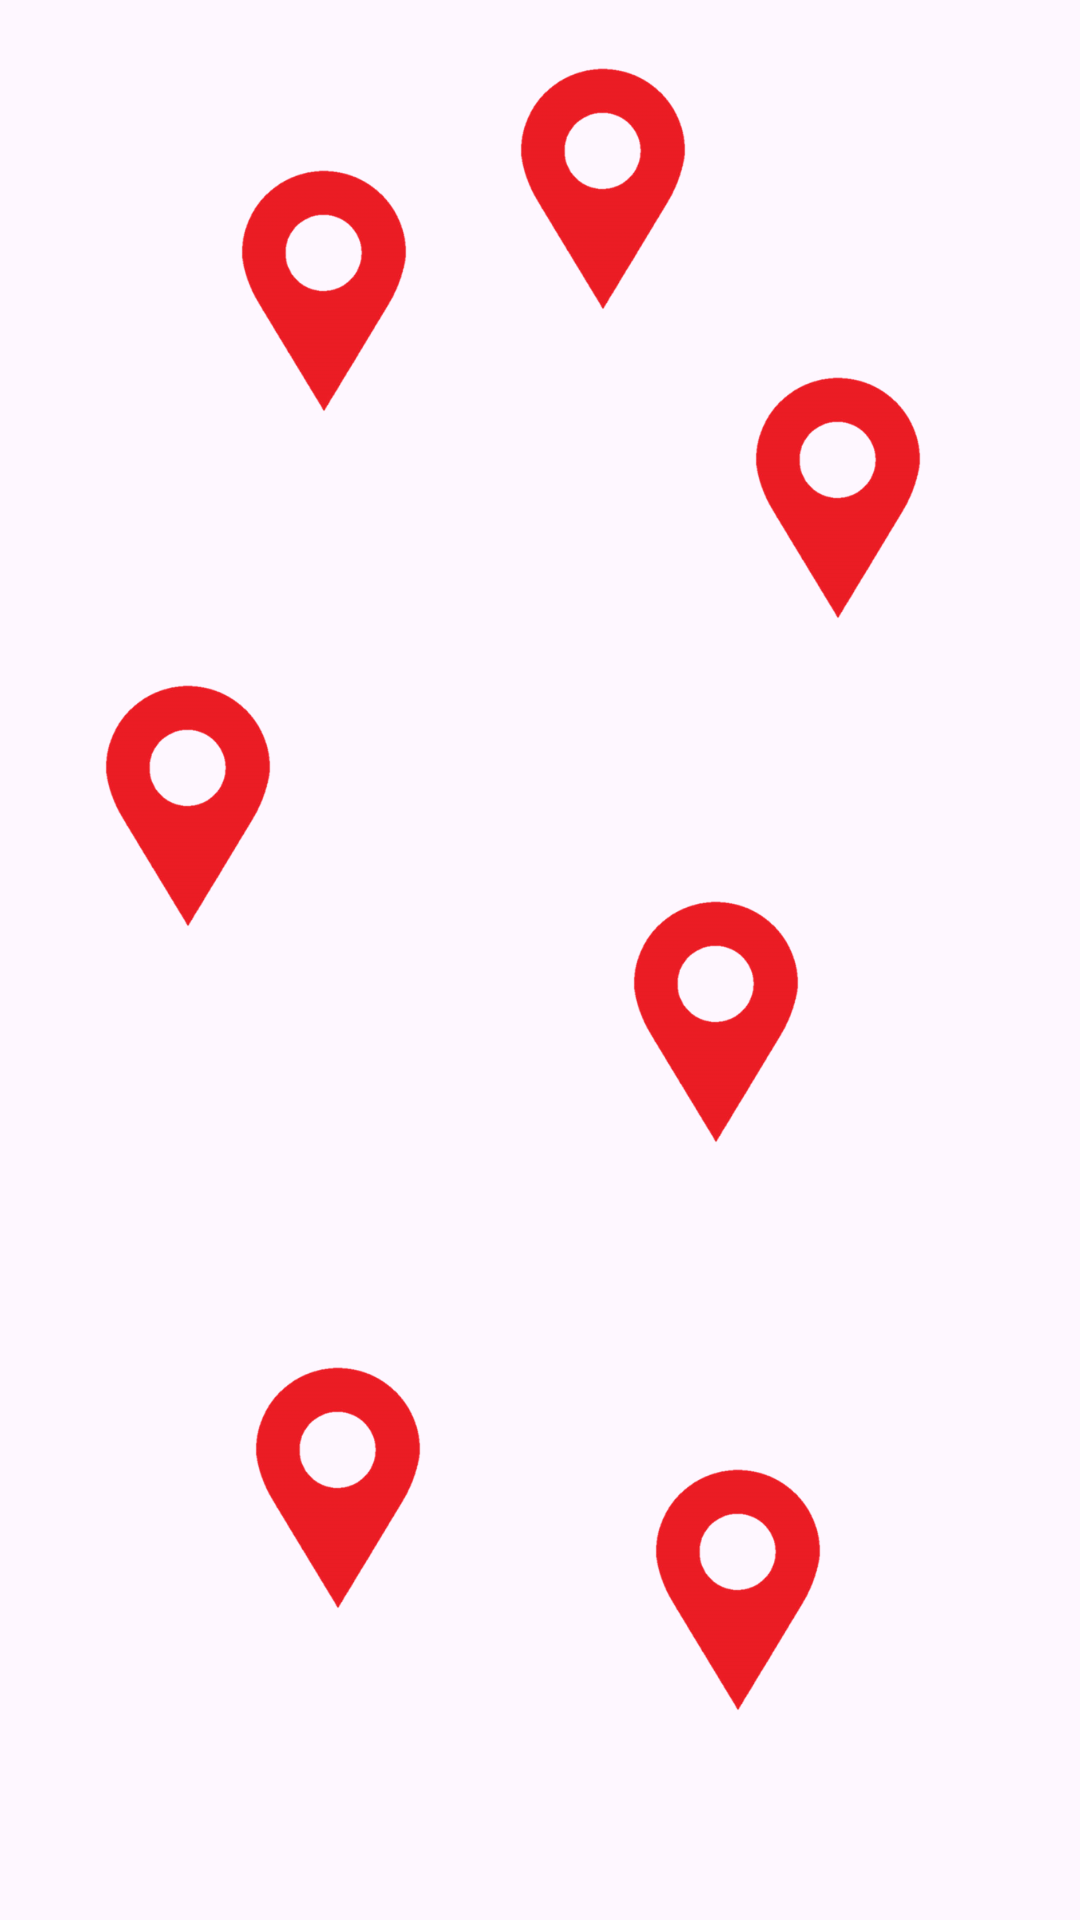

Where to tap for icons on this 1080*1920 app screen, as (x=x, y=y):
pin: (x=603, y=188), (x=324, y=290), (x=838, y=497), (x=188, y=805), (x=716, y=1021), (x=338, y=1487), (x=738, y=1589)
